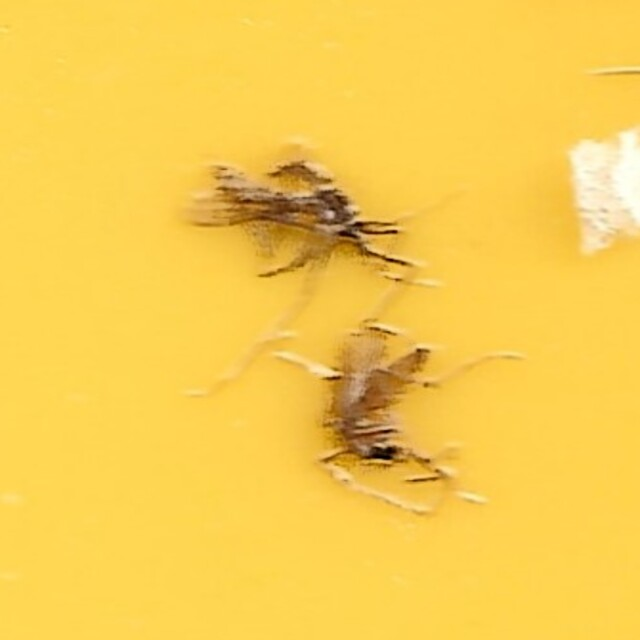Nematocera: (279, 289, 449, 497), (191, 143, 428, 289)
